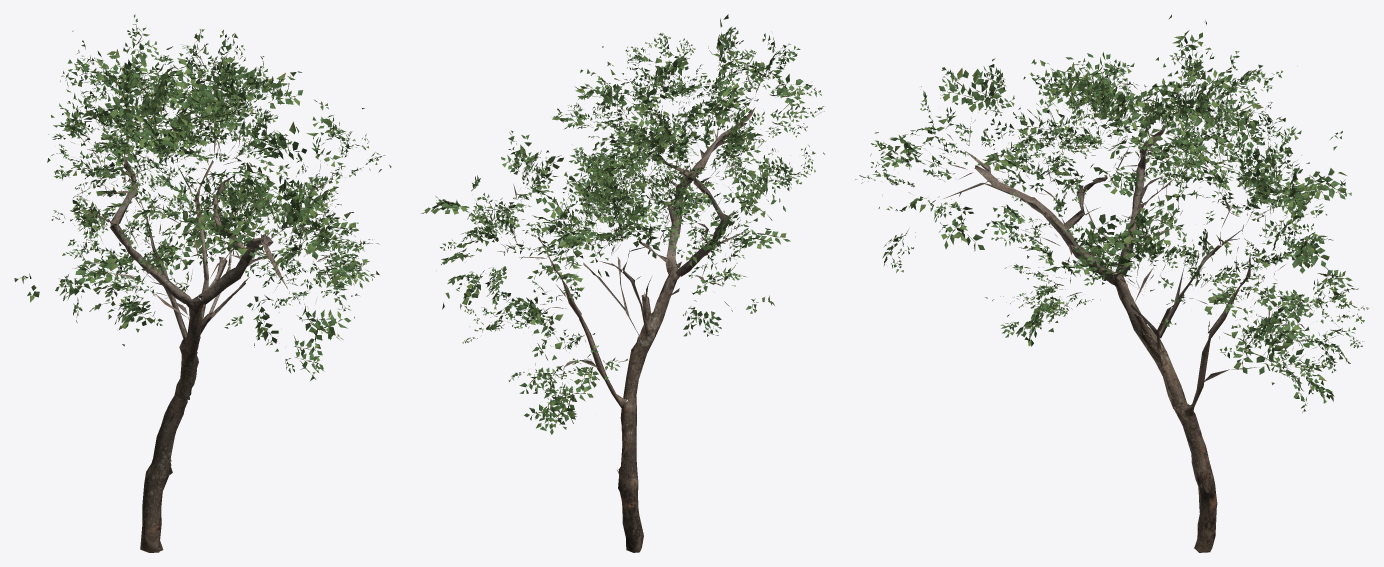
The model's file is tree_small_02_far.glb.
3 renders of one model, left to right at view 1: azimuth 30°, elevation 25°; view 2: azimuth 150°, elevation 25°; view 3: azimuth 270°, elevation 25°, orthographic. The views are drawn at different scales.
Parts seen in each view (by area): view 1: tree_small_02_LOD0; view 2: tree_small_02_LOD0; view 3: tree_small_02_LOD0.
Boxes of the visible parts, left/top/right/bottom form: tree_small_02_LOD0: left=14, top=14, right=391, bottom=552; tree_small_02_LOD0: left=421, top=14, right=824, bottom=552; tree_small_02_LOD0: left=855, top=14, right=1368, bottom=552.
Bounding box in the file's own units: 2.95 × 4.59 × 4.29.
3 materials, 3 textured.
